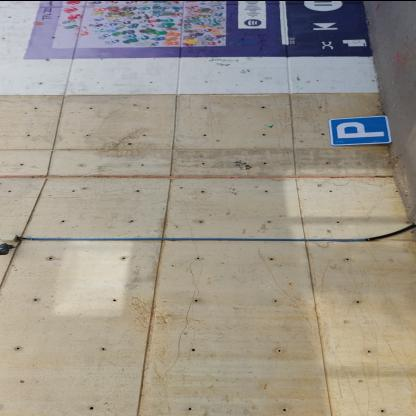Parking-Sign: (329, 115, 394, 146)
